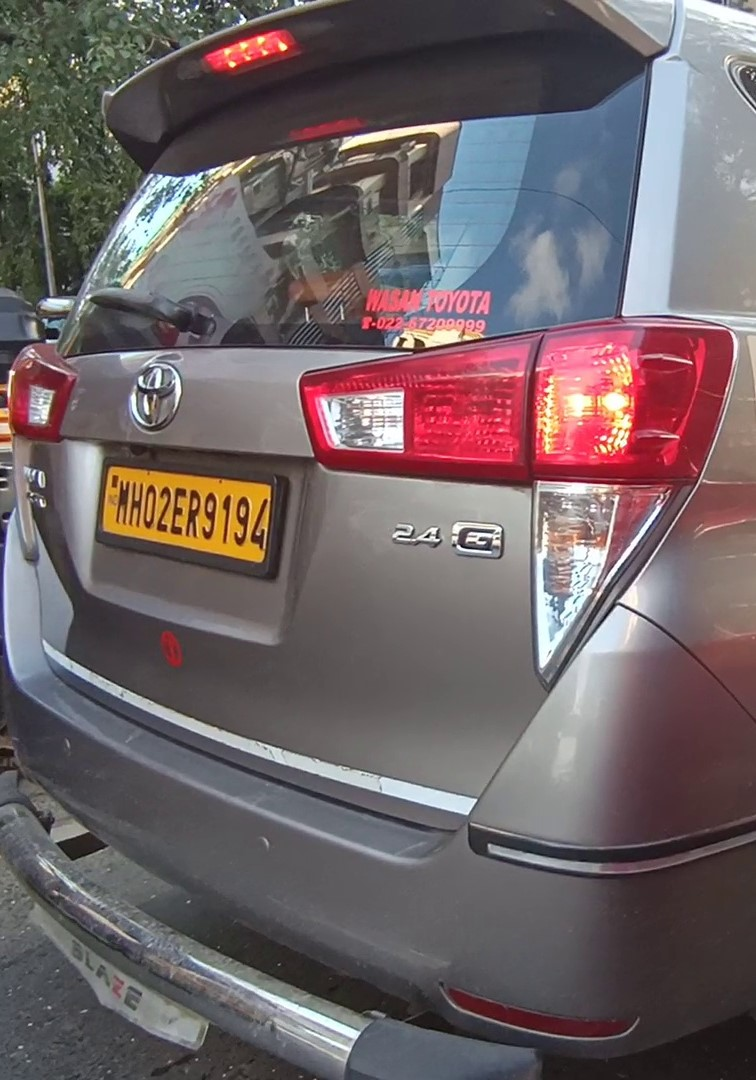MH02ER9194: (100, 464, 272, 564)
